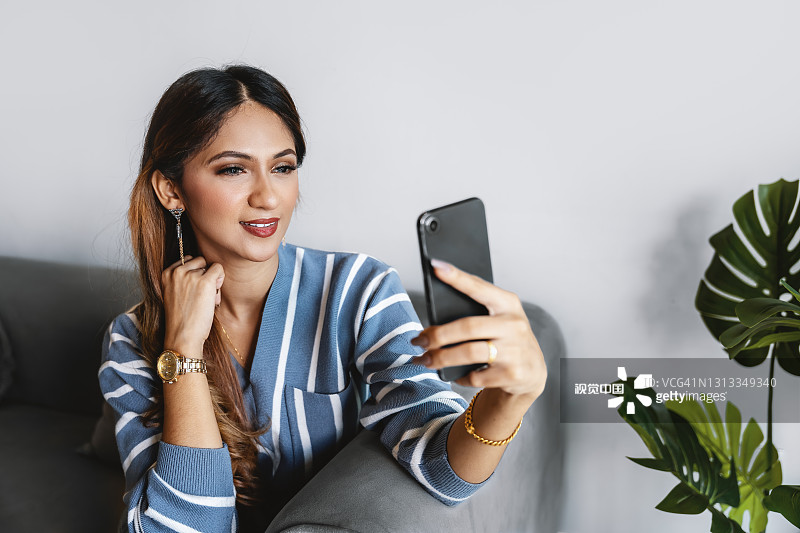no-phone: (149, 244, 233, 362)
taking photos: (399, 220, 555, 412)
